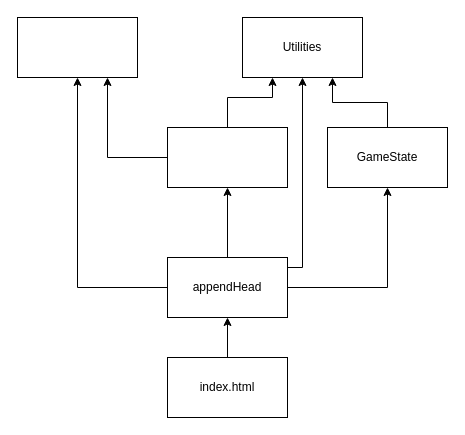
Some shapes in this 465 by 435 pixel diagram are drawn without their labels. Here are the shapes that lost their labels. From the top down, the centre of each, then its label:
(77,47): Sound
(227,157): GameObject
